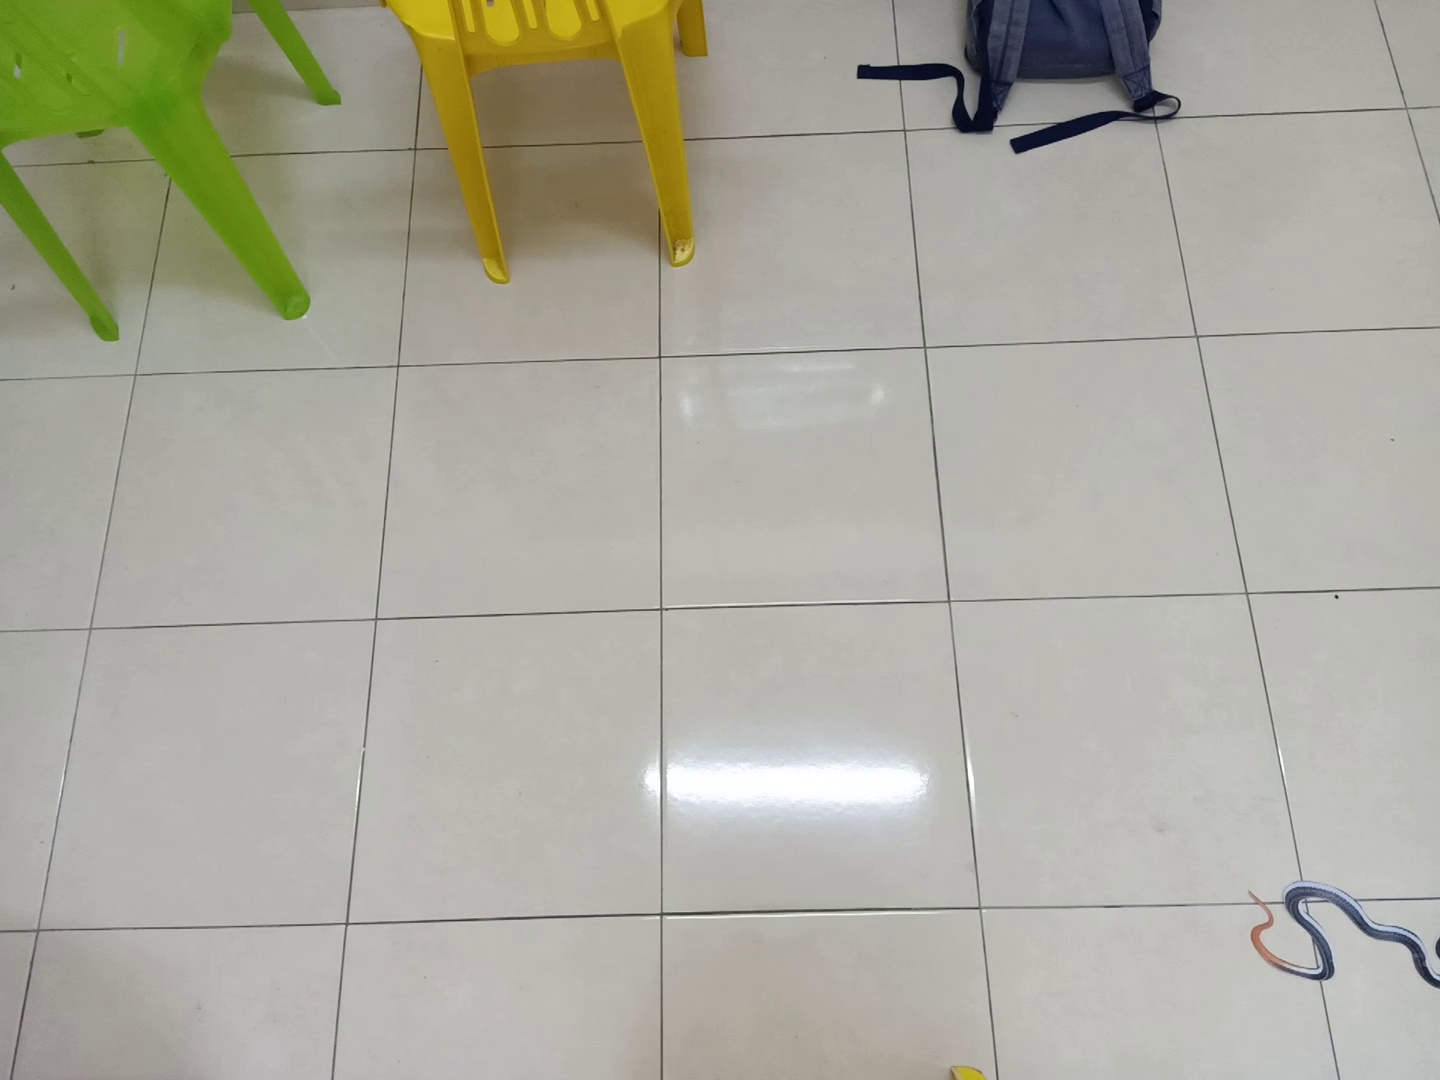snake: (1237, 874, 1440, 999)
